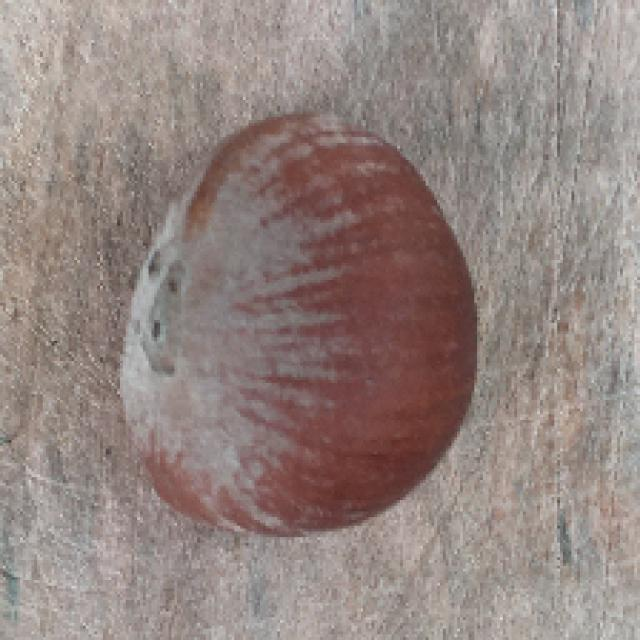DamagedHazelnut: (118, 111, 480, 540)
